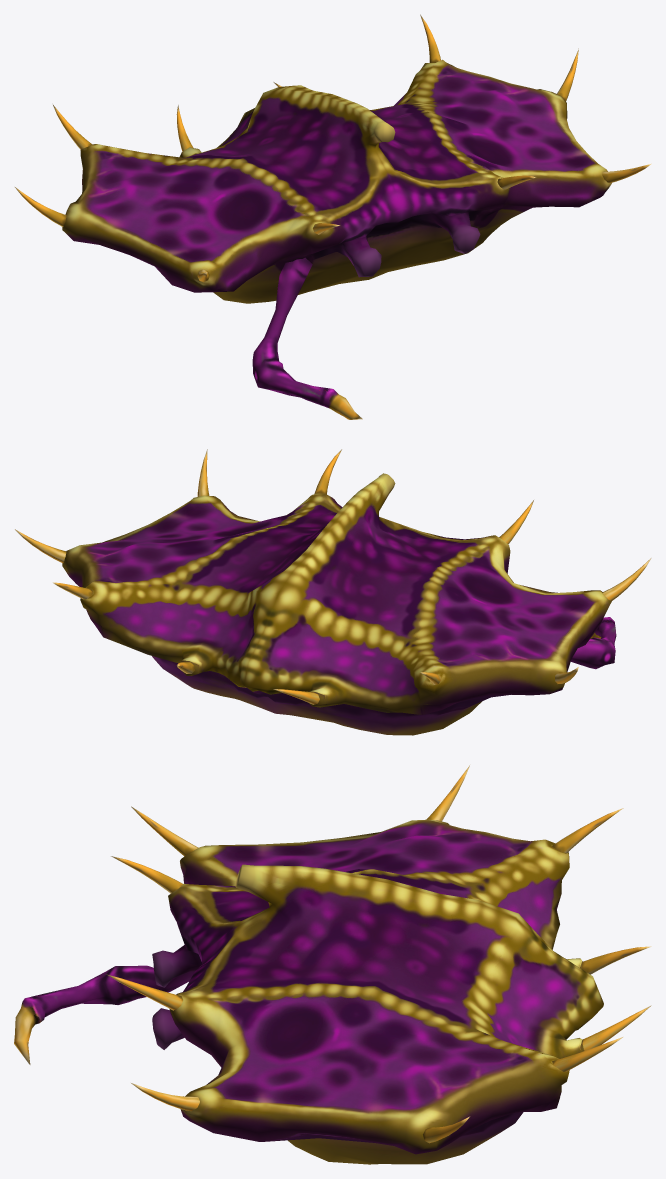
File: crab.FBX
3 renders of one model, top to bottom at view 1: azimuth 30°, elevation 25°; view 2: azimuth 150°, elevation 25°; view 3: azimuth 270°, elevation 25°, orthographic. The views are drawn at different scales.
Visible parts, largest first — view 1: krabbekropplp, unwrappetklo; view 2: krabbekropplp, unwrappetklo; view 3: krabbekropplp, unwrappetklo.
Boxes of the visible parts, bbox=[...] form: krabbekropplp: bbox=[15, 14, 651, 303]; unwrappetklo: bbox=[252, 257, 362, 419]; krabbekropplp: bbox=[15, 449, 651, 735]; unwrappetklo: bbox=[571, 617, 616, 669]; krabbekropplp: bbox=[106, 765, 651, 1164]; unwrappetklo: bbox=[14, 965, 194, 1064].
Size of the model in its own units: 20.54 by 7.23 by 15.74.
1 material, 1 textured.
